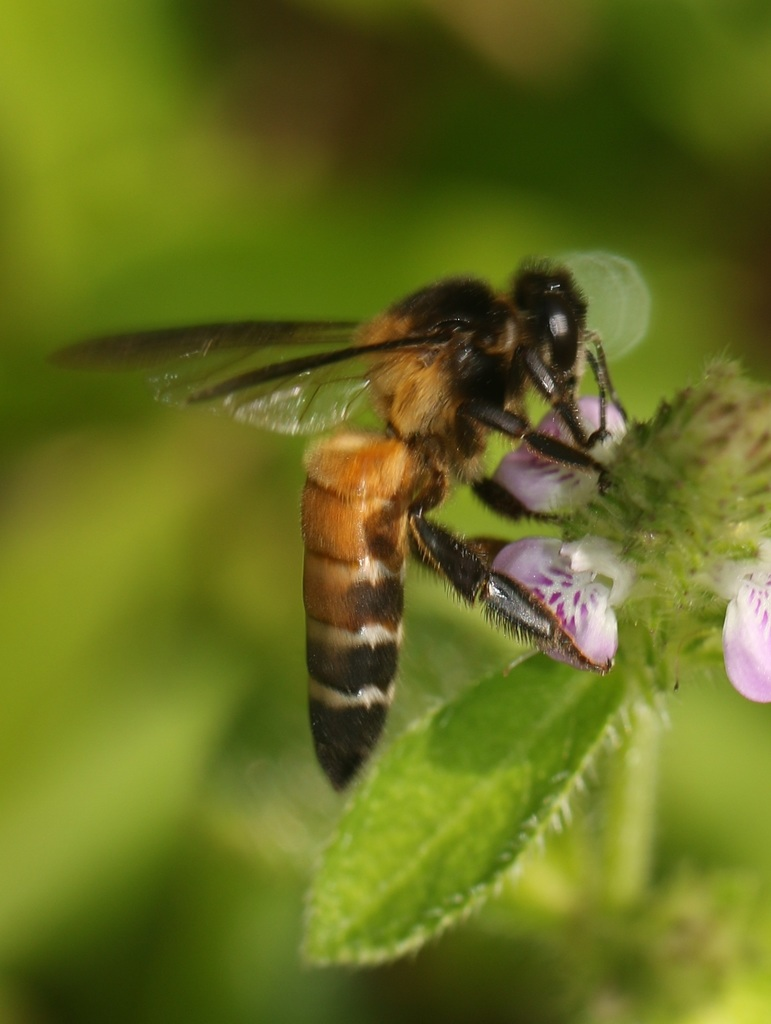honeybee: (48, 256, 624, 789)
